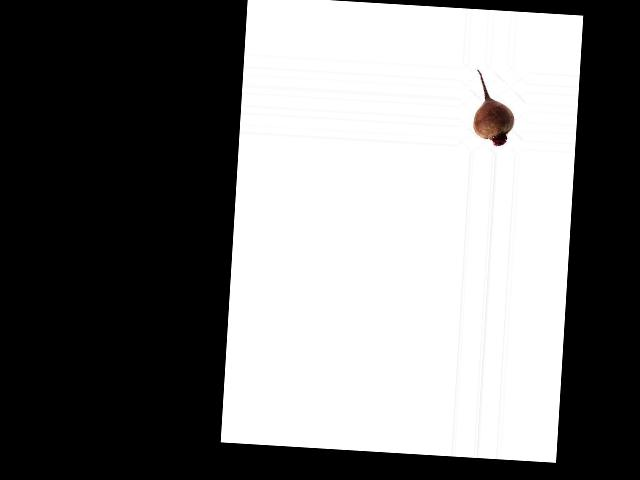beet: (472, 70, 518, 146)
